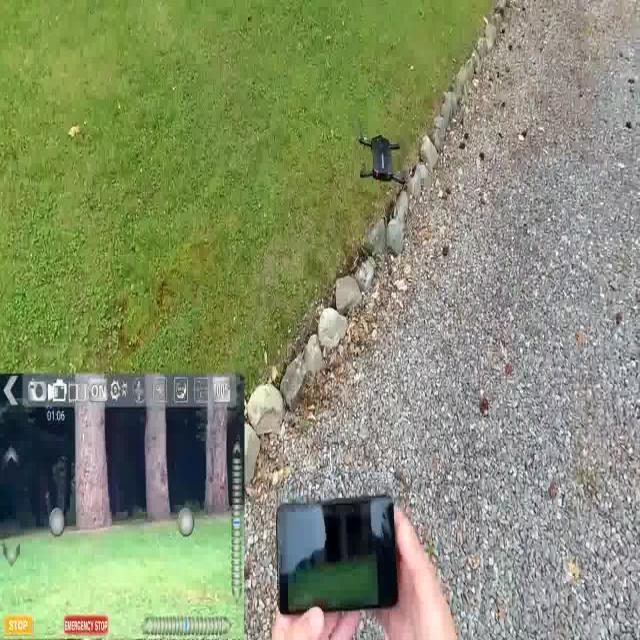drone: (355, 127, 411, 194)
